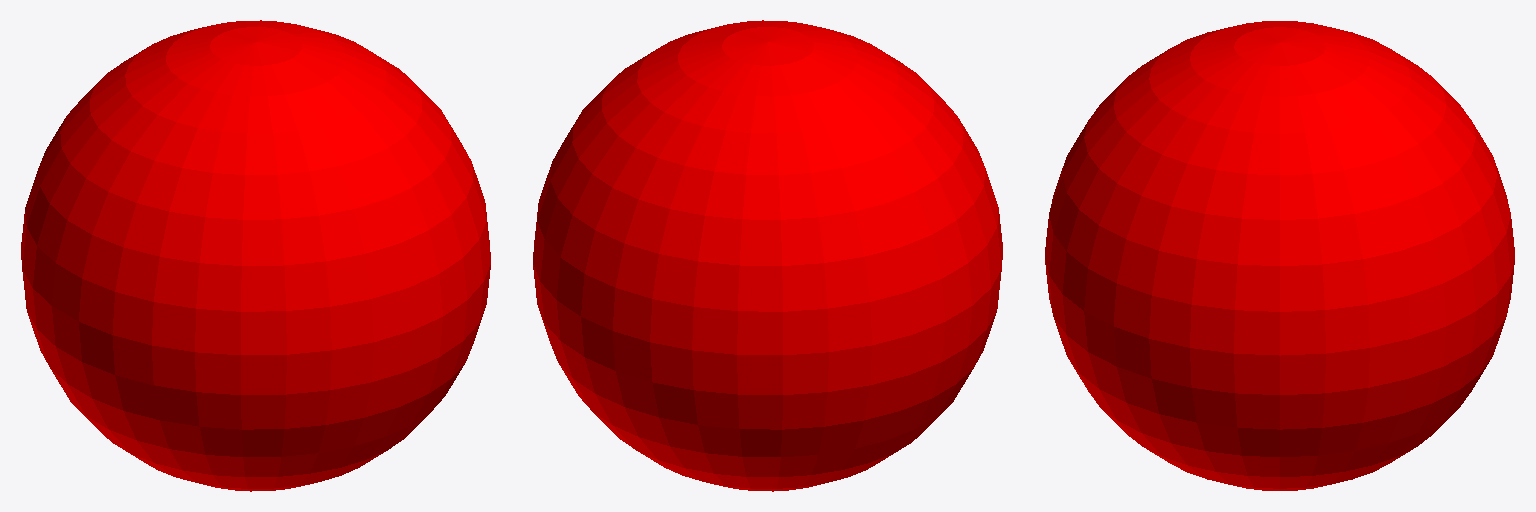
robot.urdf — kinova:
<?xml version="1.0" ?>
<!-- =================================================================================== -->
<!-- |    This document was autogenerated by xacro from kinova.xacro                   | -->
<!-- |    EDITING THIS FILE BY HAND IS NOT RECOMMENDED                                 | -->
<!-- =================================================================================== -->
<robot name="kinova">
  <!-- ========== -->
  <!--    LINKS   -->
  <!-- ========== -->
  <!-- ARM base link -->
  <link name="kinova_base_link">
    <inertial>
      <origin rpy="0 0 0" xyz="0.00244324 0.00015573 0.08616742"/>
      <mass value="1.14608471"/>
      <inertia ixx="0.00335854" ixy="3.9E-07" ixz="0.00010989" iyy="0.003311" iyz="1.91E-06" izz="0.00077158"/>
    </inertial>
    <visual>
      <origin rpy="0 0 0" xyz="0 0 0"/>
      <geometry>
        <mesh filename="./meshes/kinova/base_link.STL"/>
      </geometry>
      <material name="">
        <color rgba="0.803 0.824 0.820 1"/>
      </material>
    </visual>
    <collision>
      <origin rpy="0 0 0" xyz="0 0 0"/>
      <geometry>
        <mesh filename="./meshes/kinova/base_link.STL"/>
      </geometry>
    </collision>
  </link>
  <!-- Shoulder link -->
  <link name="shoulder_link">
    <inertial>
      <origin rpy="0 0 0" xyz="2.477E-05 0.02213531 0.09937686"/>
      <mass value="0.95974404"/>
      <inertia ixx="0.00165947" ixy="2E-08" ixz="3.6E-07" iyy="0.00140355" iyz="0.00034927" izz="0.00089493"/>
    </inertial>
    <visual>
      <origin rpy="0 0 0" xyz="0 0 0"/>
      <geometry>
        <mesh filename="./meshes/kinova/shoulder_link.STL"/>
      </geometry>
      <material name="">
        <color rgba="0.803 0.824 0.820 1"/>
      </material>
    </visual>
    <collision>
      <origin rpy="0 0 0" xyz="0 0 0"/>
      <geometry>
        <mesh filename="./meshes/kinova/shoulder_link.STL"/>
      </geometry>
    </collision>
  </link>
  <!-- Arm link -->
  <link name="arm_link">
    <inertial>
      <origin rpy="0 0 0" xyz="0.02998299 0.21154808 0.0453031"/>
      <mass value="1.17756164"/>
      <inertia ixx="0.01149277" ixy="1E-06" ixz="1.6E-07" iyy="0.00102851" iyz="0.00140765" izz="0.01133492"/>
    </inertial>
    <visual>
      <origin rpy="0 0 0" xyz="0 0 0"/>
      <geometry>
        <mesh filename="./meshes/kinova/arm_link.STL"/>
      </geometry>
      <material name="">
        <color rgba="0.803 0.824 0.820 1"/>
      </material>
    </visual>
    <collision>
      <origin rpy="0 0 0" xyz="0 0 0"/>
      <geometry>
        <mesh filename="./meshes/kinova/arm_link.STL"/>
      </geometry>
    </collision>
  </link>
  <!-- Forearm link -->
  <link name="forearm_link">
    <inertial>
      <origin rpy="0 0 0" xyz="0.0301559 0.09502206 0.0073555"/>
      <mass value="0.59767669"/>
      <inertia ixx="0.00163256" ixy="7.11E-06" ixz="1.54E-06" iyy="0.00029798" iyz="9.587E-05" izz="0.00169091"/>
    </inertial>
    <visual>
      <origin rpy="0 0 0" xyz="0 0 0"/>
      <geometry>
        <mesh filename="./meshes/kinova/forearm_link.STL"/>
      </geometry>
      <material name="">
        <color rgba="0.803 0.824 0.820 1"/>
      </material>
    </visual>
    <collision>
      <origin rpy="0 0 0" xyz="0 0 0"/>
      <geometry>
        <mesh filename="./meshes/kinova/forearm_link.STL"/>
      </geometry>
    </collision>
  </link>
  <!-- Lower_wrist_link  -->
  <link name="lower_wrist_link">
    <inertial>
      <origin rpy="0 0 0" xyz="0.00575149 0.01000443 0.08719207"/>
      <mass value="0.52693412"/>
      <inertia ixx="0.00069098" ixy="2.4E-07" ixz="0.00016483" iyy="0.00078519" iyz="7.4E-07" izz="0.00034115"/>
    </inertial>
    <visual>
      <origin rpy="0 0 0" xyz="0 0 0"/>
      <geometry>
        <mesh filename="./meshes/kinova/lower_wrist_link.STL"/>
      </geometry>
      <material name="">
        <color rgba="0.803 0.824 0.820 1"/>
      </material>
    </visual>
    <collision>
      <origin rpy="0 0 0" xyz="0 0 0"/>
      <geometry>
        <mesh filename="./meshes/kinova/lower_wrist_link.STL"/>
      </geometry>
    </collision>
  </link>
  <!-- Upper_wrist_link -->
  <link name="upper_wrist_link">
    <inertial>
      <origin rpy="0 0 0" xyz="0.08056517 0.00980409 0.01872799"/>
      <mass value="0.58097325"/>
      <inertia ixx="0.00021268" ixy="5.21E-06" ixz="2.91E-06" iyy="0.00106371" iyz="1.1E-07" izz="0.00108465"/>
    </inertial>
    <visual>
      <origin rpy="0 0 0" xyz="0 0 0"/>
      <geometry>
        <mesh filename="./meshes/kinova/upper_wrist_link.STL"/>
      </geometry>
      <material name="">
        <color rgba="0.803 0.824 0.820 1"/>
      </material>
    </visual>
    <collision>
      <origin rpy="0 0 0" xyz="0 0 0"/>
      <geometry>
        <mesh filename="./meshes/kinova/upper_wrist_link.STL"/>
      </geometry>
    </collision>
  </link>
  <!-- Dummy links for transforming axes -->
  <link name="end_effector_link">
    <inertial>
      <mass value="0.0001"/>
      <origin rpy="0 0 0" xyz="0 0 0"/>
      <inertia ixx="0.0001" ixy="0.0" ixz="0.0" iyy="0.0001" iyz="0.0" izz="0.0001"/>
    </inertial>
  </link>
  <link name="dummy_link"/>
  <link name="tool_frame"/>
  <!-- ================= -->
  <!-- Revolute JOINTS   -->
  <!-- ================= -->
  <!-- Joint 1 -->
  <joint name="joint_1" type="revolute">
    <origin rpy="0 0 0" xyz="0 0 0.12825"/>
    <parent link="kinova_base_link"/>
    <child link="shoulder_link"/>
    <axis xyz="0 0 1"/>
    <limit effort="10" lower="-2.68" upper="2.68" velocity="1.6"/>
  </joint>
  <!-- Joint 2 -->
  <joint name="joint_2" type="revolute">
    <origin rpy="1.5708 0 0" xyz="0 -0.03 0.115"/>
    <parent link="shoulder_link"/>
    <child link="arm_link"/>
    <axis xyz="0 0 1"/>
    <limit effort="14" lower="-2.61" upper="2.61" velocity="1.6"/>
  </joint>
  <!-- Joint 3 -->
  <joint name="joint_3" type="revolute">
    <origin rpy="-3.1416 0 0" xyz="0 0.28 0"/>
    <parent link="arm_link"/>
    <child link="forearm_link"/>
    <axis xyz="0 0 1"/>
    <limit effort="10" lower="-2.61" upper="2.61" velocity="1.6"/>
  </joint>
  <!-- Joint 4 -->
  <joint name="joint_4" type="revolute">
    <origin rpy="1.5708 0 0" xyz="0 -0.14 0.02"/>
    <parent link="forearm_link"/>
    <child link="lower_wrist_link"/>
    <axis xyz="0 0 1"/>
    <limit effort="39" lower="-2.57" upper="2.57" velocity="1.3963"/>
  </joint>
  <!-- Joint 5 -->
  <joint name="joint_5" type="revolute">
    <origin rpy="0 1.5708 0" xyz="0.0285 0 0.105"/>
    <parent link="lower_wrist_link"/>
    <child link="upper_wrist_link"/>
    <axis xyz="0 0 1"/>
    <limit effort="7" lower="-2.53" upper="2.53" velocity="1.6"/>
  </joint>
  <!-- Joint 6 -->
  <joint name="joint_6" type="revolute">
    <origin rpy="0 -1.5708 0" xyz="-0.105 0 0.0285"/>
    <parent link="upper_wrist_link"/>
    <child link="end_effector_link"/>
    <axis xyz="0 0 1"/>
    <limit effort="9" lower="-2.09" upper="2.09" velocity="1.2218"/>
  </joint>
  <!-- ================= -->
  <!-- Fixed JOINTS      -->
  <!-- ================= -->
  <joint name="end_effector" type="fixed">
    <origin rpy="0 0 0" xyz="0 0 0"/>
    <parent link="end_effector_link"/>
    <child link="dummy_link"/>
    <axis xyz="0 0 1"/>
    <limit effort="0" lower="0" upper="0" velocity="0"/>
  </joint>
  <!-- Tool frame used by the arm -->
  <joint name="tool_frame_joint" type="fixed">
    <origin rpy="0 0 0" xyz="0 0 0.130"/>
    <parent link="dummy_link"/>
    <child link="tool_frame"/>
    <axis xyz="0 0 0"/>
  </joint>
  <!-- Gripper description -->
  <!-- Gripper base link -->
  <link name="gripper_base_link">
    <inertial>
      <origin rpy="0 0 0" xyz="4.03E-06 1.08E-05 0.041397"/>
      <mass value="0.1395"/>
      <inertia ixx="0.00011614" ixy="1E-08" ixz="4E-08" iyy="0.00010327" iyz="0" izz="9.707E-05"/>
    </inertial>
    <visual>
      <origin rpy="0 0 0" xyz="0 0 0"/>
      <geometry>
        <mesh filename="./meshes/kinova/gripper_base_link.STL"/>
      </geometry>
      <material name="">
        <color rgba="0.803 0.824 0.820 1"/>
      </material>
    </visual>
    <collision>
      <origin rpy="0 0 0" xyz="0 0 0"/>
      <geometry>
        <mesh filename="./meshes/kinova/gripper_base_link.STL"/>
      </geometry>
    </collision>
  </link>
  <!-- right_finger_prox_link -->
  <link name="right_finger_prox_link">
    <inertial>
      <origin rpy="0 0 0" xyz="0.020257 0.0063483 6.991E-05"/>
      <mass value="0.018385"/>
      <inertia ixx="2.29E-06" ixy="1.43E-06" ixz="0" iyy="4.56E-06" iyz="0" izz="4.77E-06"/>
    </inertial>
    <visual>
      <origin rpy="0 0 0" xyz="0 0 0"/>
      <geometry>
        <mesh filename="./meshes/kinova/right_finger_prox_link.STL"/>
      </geometry>
      <material name="">
        <color rgba="0.803 0.824 0.820 1"/>
      </material>
    </visual>
    <collision>
      <origin rpy="0 0 0" xyz="0 0 0"/>
      <geometry>
        <mesh filename="./meshes/kinova/right_finger_prox_link.STL"/>
      </geometry>
    </collision>
  </link>
  <!-- right_finger_dist_link -->
  <link name="right_finger_dist_link">
    <inertial>
      <origin rpy="0 0 0" xyz="0.018488 0.0011091 0"/>
      <mass value="0.010748"/>
      <inertia ixx="6.3E-07" ixy="3.2E-07" ixz="0" iyy="1.83E-06" iyz="0" izz="1.61E-06"/>
    </inertial>
    <visual>
      <origin rpy="0 0 0" xyz="0 0 0"/>
      <geometry>
        <mesh filename="./meshes/kinova/right_finger_dist_link.STL"/>
      </geometry>
      <material name="">
        <color rgba="0 0.055 0.525 0.3"/>
      </material>
    </visual>
    <collision>
      <origin rpy="0 0 0" xyz="0 0 0"/>
      <geometry>
        <mesh filename="./meshes/kinova/right_finger_dist_link.STL"/>
      </geometry>
    </collision>
  </link>
  <!-- left_finger_prox_link -->
  <link name="left_finger_prox_link">
    <inertial>
      <origin rpy="0 0 0" xyz="0.020257 0.0063483 6.99E-05"/>
      <mass value="0.018385"/>
      <inertia ixx="2.29E-06" ixy="1.43E-06" ixz="0" iyy="4.56E-06" iyz="0" izz="4.77E-06"/>
    </inertial>
    <visual>
      <origin rpy="0 0 0" xyz="0 0 0"/>
      <geometry>
        <mesh filename="./meshes/kinova/left_finger_prox_link.STL"/>
      </geometry>
      <material name="">
        <color rgba="0.803 0.824 0.820 1"/>
      </material>
    </visual>
    <collision>
      <origin rpy="0 0 0" xyz="0 0 0"/>
      <geometry>
        <mesh filename="./meshes/kinova/left_finger_prox_link.STL"/>
      </geometry>
    </collision>
  </link>
  <!-- left_finger_dist_link -->
  <link name="left_finger_dist_link">
    <inertial>
      <origin rpy="0 0 0" xyz="-0.018488 0.0011091 0"/>
      <mass value="0.010748"/>
      <inertia ixx="6.3E-07" ixy="3.2E-07" ixz="0" iyy="1.83E-06" iyz="0" izz="1.61E-06"/>
    </inertial>
    <visual>
      <origin rpy="0 0 0" xyz="0 0 0"/>
      <geometry>
        <mesh filename="./meshes/kinova/left_finger_dist_link.STL"/>
      </geometry>
      <material name="">
        <color rgba="0 0.055 0.525 0.3"/>
      </material>
    </visual>
    <collision>
      <origin rpy="0 0 0" xyz="0 0 0"/>
      <geometry>
        <mesh filename="./meshes/kinova/left_finger_dist_link.STL"/>
      </geometry>
    </collision>
  </link>
  <!-- ================= -->
  <!--        JOINTS     -->
  <!-- ================= -->
  <!-- right_finger_bottom_joint => THIS IS THE ONE THAT YOU ACTUALLY CONTROL, other joints mimic this one -->
  <joint name="right_finger_bottom_joint" type="fixed">
    <origin rpy="0 1.5708 0" xyz="0 -0.030501 0.070003"/>
    <parent link="gripper_base_link"/>
    <child link="right_finger_prox_link"/>
  </joint>
  <!-- right_finger_tip_joint -->
  <joint name="right_finger_tip_joint" type="fixed">
    <origin rpy="0 0 0" xyz="-0.045636 0.020423 0"/>
    <parent link="right_finger_prox_link"/>
    <child link="right_finger_dist_link"/>
  </joint>
  <!-- left_finger_bottom_joint  -->
  <joint name="left_finger_bottom_joint" type="fixed">
    <origin rpy="0 1.5708 0" xyz="0 0.0305 0.070003"/>
    <parent link="gripper_base_link"/>
    <child link="left_finger_prox_link"/>
  </joint>
  <!-- left_finger_tip_joint -->
  <joint name="left_finger_tip_joint" type="fixed">
    <origin rpy="0 0 0" xyz="-0.045636 -0.020423 6.9901E-05"/>
    <parent link="left_finger_prox_link"/>
    <child link="left_finger_dist_link"/>
  </joint>
  <joint name="arm_gripper_base_joint" type="fixed">
    <origin rpy="0 0 0" xyz="0 0 0"/>
    <parent link="dummy_link"/>
    <child link="gripper_base_link"/>
  </joint>
  <!-- Create world joint -->
  <link name="world"/>
  <joint name="arm_mount_joint" type="fixed">
    <origin rpy="0 0 0" xyz="0 0 0"/>
    <parent link="world"/>
    <child link="kinova_base_link"/>
  </joint>
  <link name="ball_link">
    <visual>
      <material name="red">
        <color rgba="1 0 0 1"/>
      </material>

      <geometry>
        <sphere radius="0.005"/>
      </geometry>
    </visual>
  </link>
  <joint name="ball_joint" type="fixed">
    <origin rpy="0.0 0.0 0.0" xyz="0 0 0.17" />
    <parent link="gripper_base_link"/>
    <child link="ball_link"/>
  </joint>
</robot>

--- Facts derived from the render (not from the file) ---
Views: 3 orthographic renders of the robot side by side, from view 1: azimuth 30°, elevation 25°; view 2: azimuth 150°, elevation 25°; view 3: azimuth 270°, elevation 25°.
Model kinova with 16 links and 15 joints (6 revolute, 9 fixed), rooted at world, posed every joint at zero.
Visible links, largest first — view 1: ball_link; view 2: ball_link; view 3: ball_link.
Link boxes in pixels (x1,y1,x2,y2): ball_link: [21, 20, 490, 491]; ball_link: [533, 20, 1002, 491]; ball_link: [1045, 21, 1514, 490].
Bounding box of the posed robot: 0.01 × 0.01 × 0.01 m (x, y, z).
Meshes: 11 distinct files referenced, 0 mesh visuals loaded (none loaded); not drawn: 11 (reference not matched to a file when rendering).